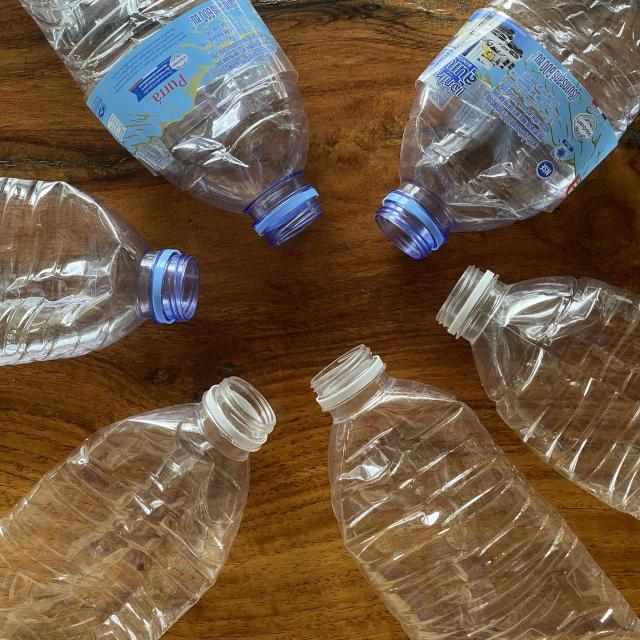plastik: (311, 345, 640, 640), (20, 0, 323, 245), (0, 377, 276, 640), (377, 0, 640, 258), (437, 266, 640, 520), (0, 178, 199, 365)
